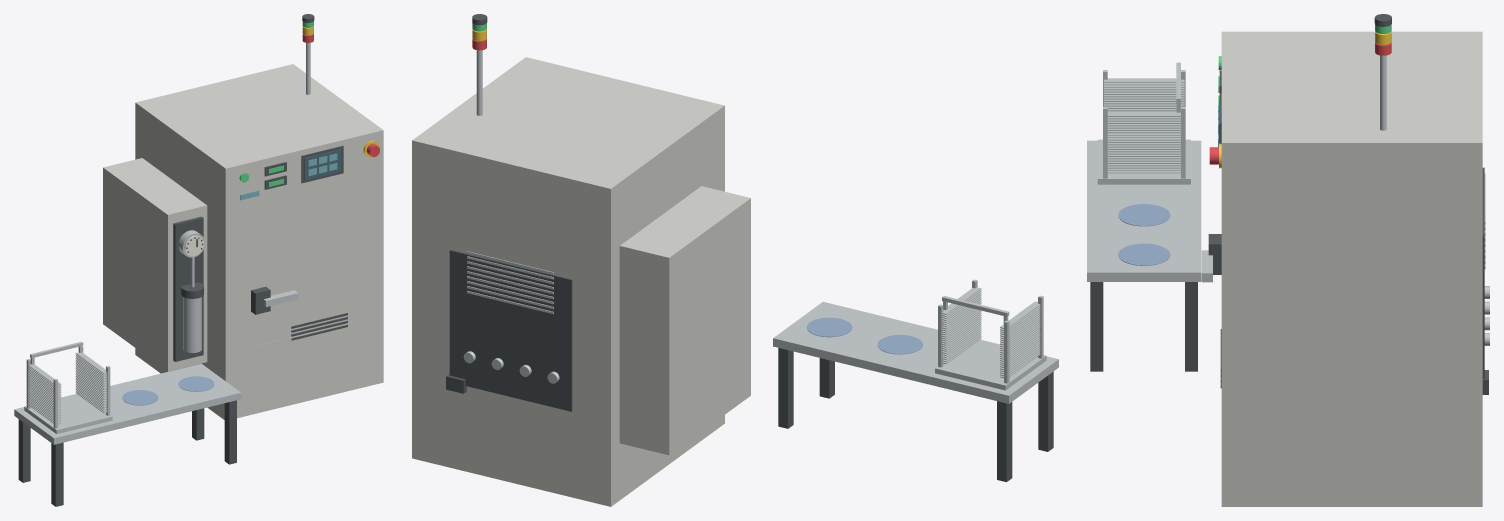
File: yes310ta.glb
3 renders of one model, left to right at view 1: azimuth 30°, elevation 25°; view 2: azimuth 150°, elevation 25°; view 3: azimuth 270°, elevation 25°, orthographic. The views are drawn at different scales.
Visible parts, largest first — view 1: control_head, vapor_module, left_shell, door_outer, right_shell, witness_tray, base, upper_fascia, lower_fascia, vapor_module_recess, rack_base, vapor_flask (+8 smaller); view 2: control_head, vapor_module, rear_service_panel, left_shell, base, right_shell, witness_tray, upper_fascia, lower_fascia, rack_base, tray_foot_-1_-1, tray_foot_1_-1 (+3 smaller); view 3: right_shell, control_head, base, witness_tray, rack_base, tray_foot_1_1, tray_foot_1_-1, sample_B, sample_A, rear_service_panel, tower_stem, latch_block.
Boxes of the visible parts, box(x1,y1,x2,y2) form: control_head: box(135, 64, 383, 207); vapor_module: box(103, 158, 207, 371); left_shell: box(135, 142, 258, 388); door_outer: box(258, 222, 353, 344); right_shell: box(353, 169, 383, 360); witness_tray: box(14, 363, 241, 444); base: box(135, 348, 383, 419); upper_fascia: box(258, 177, 353, 245); lower_fascia: box(258, 322, 353, 383); vapor_module_recess: box(173, 216, 203, 361); rack_base: box(24, 393, 112, 433); vapor_flask: box(183, 297, 201, 352); control_head: box(412, 57, 724, 238); vapor_module: box(619, 186, 750, 455); rear_service_panel: box(449, 250, 572, 411); left_shell: box(569, 155, 724, 469); base: box(412, 415, 724, 506); right_shell: box(412, 190, 449, 430); witness_tray: box(773, 301, 1058, 403); upper_fascia: box(449, 199, 569, 278); lower_fascia: box(449, 386, 569, 459); rack_base: box(935, 339, 1046, 390); tray_foot_-1_-1: box(997, 401, 1012, 482); tray_foot_1_-1: box(778, 348, 793, 428); right_shell: box(1221, 200, 1482, 464); control_head: box(1221, 31, 1482, 199); base: box(1221, 464, 1482, 506); witness_tray: box(1087, 140, 1201, 281); rack_base: box(1097, 139, 1190, 184); tray_foot_1_1: box(1090, 282, 1103, 371); tray_foot_1_-1: box(1185, 282, 1197, 371); sample_B: box(1118, 243, 1170, 265); sample_A: box(1118, 204, 1170, 226); rear_service_panel: box(1482, 167, 1484, 378); tower_stem: box(1380, 55, 1386, 130); latch_block: box(1208, 234, 1221, 274).
Size of the model in its own units: 1.21 by 1.01 by 0.7749.
